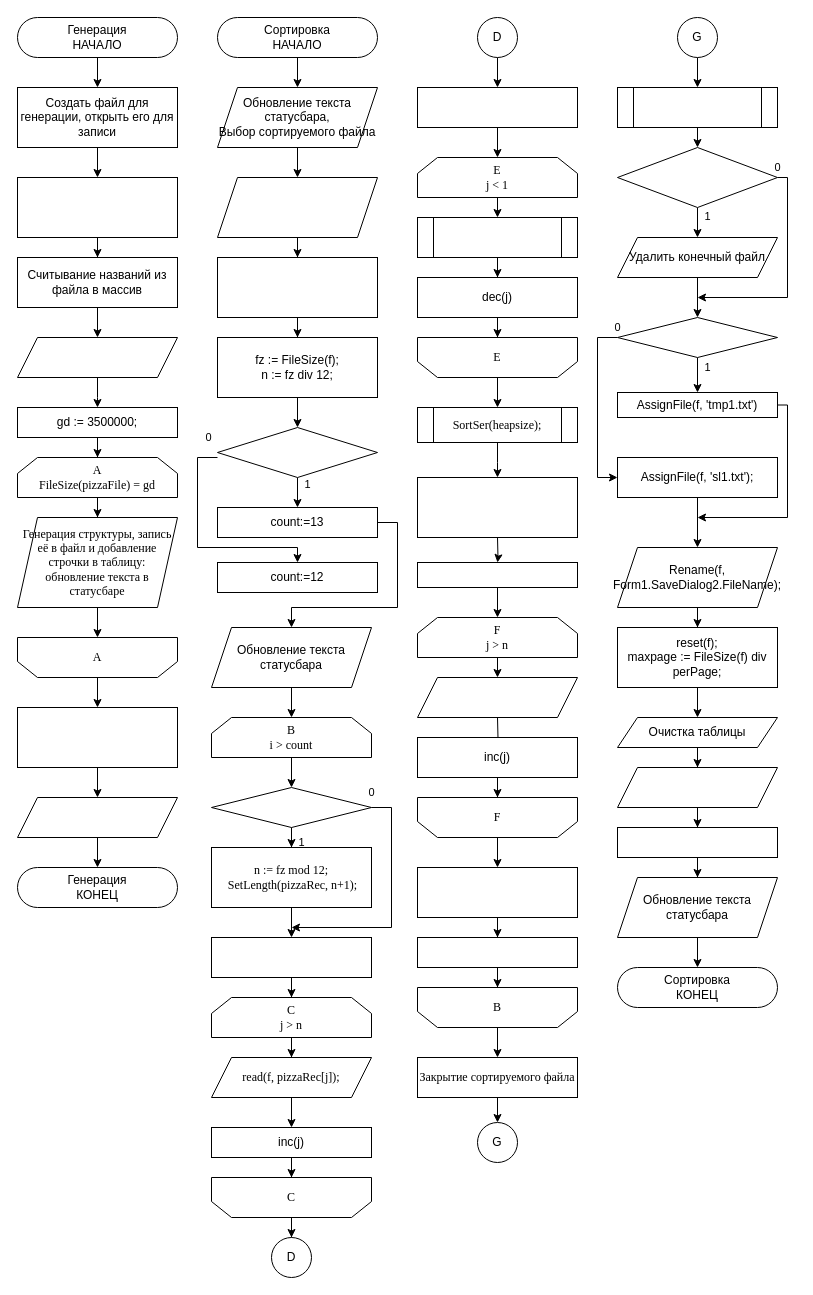
This 813x1295 diagram has some shape labels left out. Each missing label, with the centre of its shape:
"count=12" goes at pixel 697 337.
"fz mod 12 > 0" goes at pixel 297 452.
"heapsize := n; j := 1" goes at pixel 291 957.
"heapsort(j, heapsize);" goes at pixel 497 237.
"i = 13" goes at pixel 291 807.
"inc(i)" goes at pixel 497 952.
"j := 1" goes at pixel 497 575.
"j := n div 2" goes at pixel 497 107.
"mergeSort(count);" goes at pixel 697 107.
"write(helpfile, pizzaRec[j]);" goes at pixel 497 697.
"Закрытие вспомогательного файла" goes at pixel 497 892.
"Закрытие файла f" goes at pixel 697 842.
"Закрытие файла с названиями и файла для генерации" goes at pixel 97 737.
"Заполнение таблицы данными из файла" goes at pixel 697 787.
"Конечный файл существует?" goes at pixel 697 177.
"Обновление текста в статусбаре" goes at pixel 97 817.
"Обновление текста статусбара, Выбор конечного файла" goes at pixel 297 207.
"Открытие вспомогательного файла для записи" goes at pixel 497 507.
"Открытие сортируемого файла для чтения (f)" goes at pixel 297 287.
"Открыть файл с названиями для чтения" goes at pixel 97 207.
"Очистка таблицы, обновление текста в статусбаре" goes at pixel 97 357.
